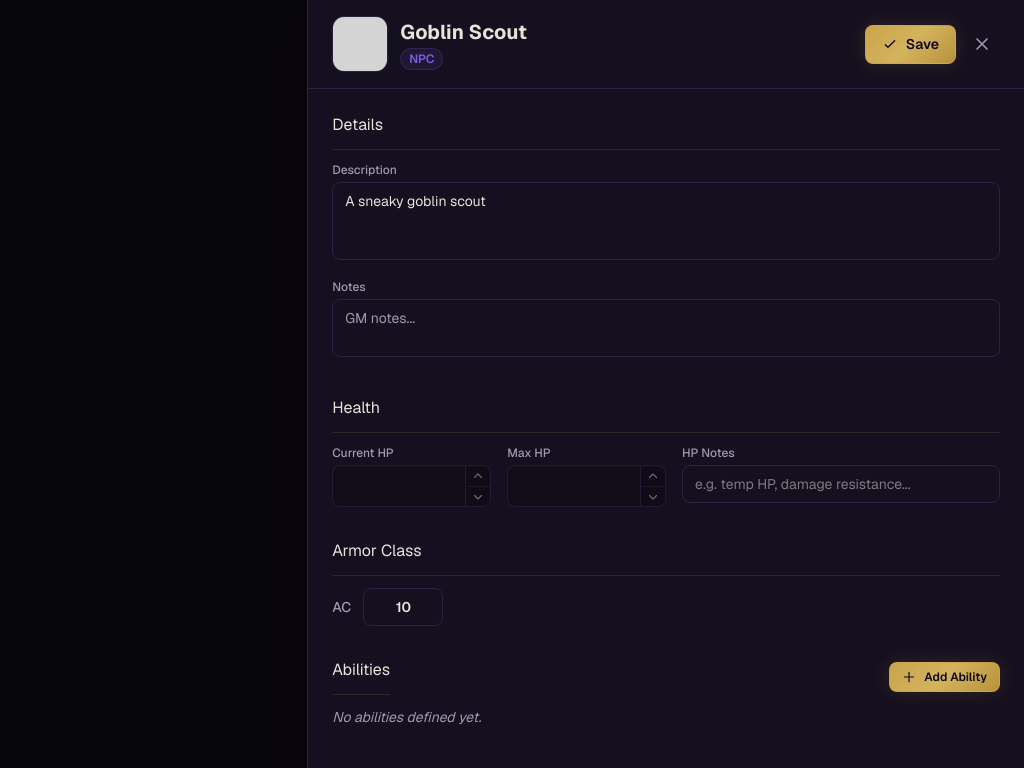
Scenario: CreatureDrawer › Child ability create › shows the create form when Add Ability button is clicked
The image size is (1024, 768).
Expected: the heading "Abilities" is shown, [332,658,390,695]
Click the button "Add Ability".
click(945, 676)  # box [889,662,1000,692]
(page scrolled)
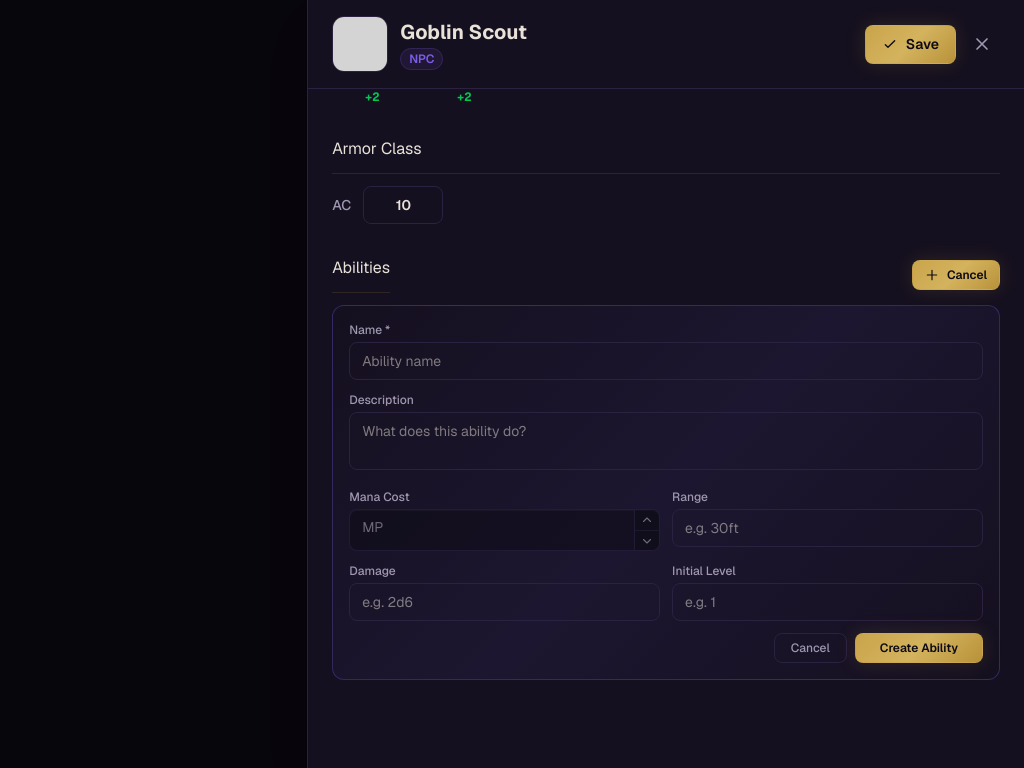
Now the field with placeholder "Ability name" is shown, box [349,342,983,380]
Now the text box with placeholder "What does this ability do?" is shown, box [349,412,983,470]
Now the number field with placeholder "MP" is shown, box [350,510,634,544]
